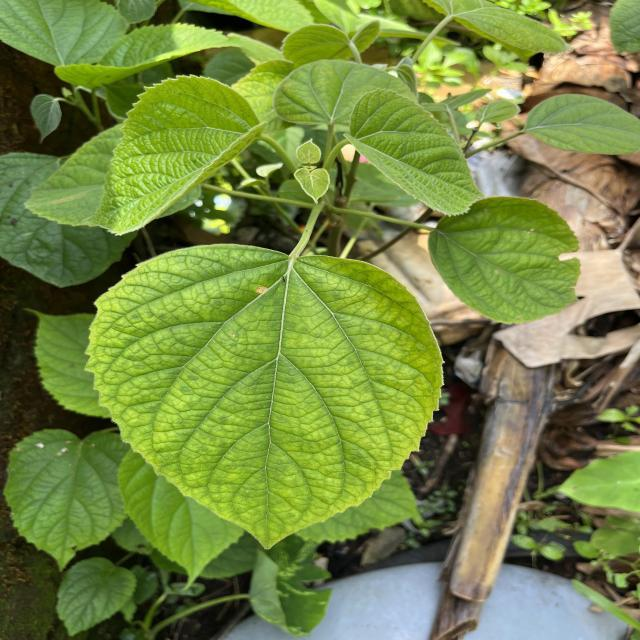Clerodendrum infortunatum: (81, 240, 448, 552), (90, 71, 271, 239), (426, 196, 582, 326), (2, 427, 134, 573), (342, 85, 484, 217), (22, 306, 114, 420), (522, 91, 640, 158)
